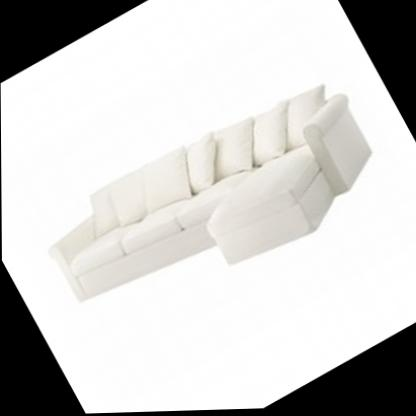Sofa: (14, 36, 405, 367)
